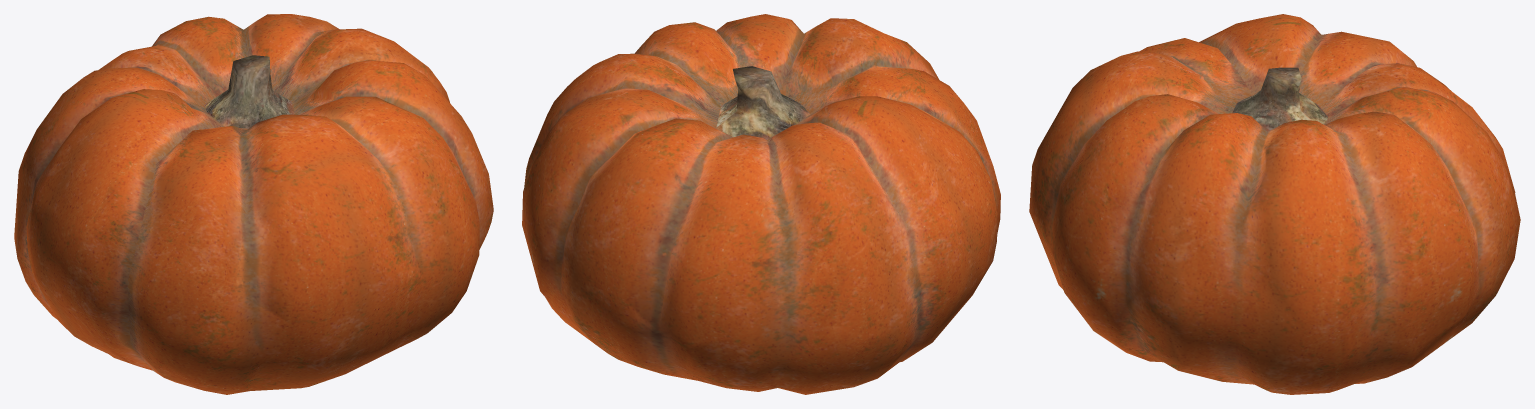
File: SM_pumpkin_01.fbx
The picture shows the model from 3 angles, left to right: view 1: azimuth 30°, elevation 25°; view 2: azimuth 150°, elevation 25°; view 3: azimuth 270°, elevation 25°; orthographic projection.
Visible parts, largest first — view 1: SM_pumpkin_01_LOD0; view 2: SM_pumpkin_01_LOD0; view 3: SM_pumpkin_01_LOD0.
Boxes of the visible parts, bbox=[...] form: SM_pumpkin_01_LOD0: bbox=[14, 14, 493, 394]; SM_pumpkin_01_LOD0: bbox=[522, 14, 1000, 394]; SM_pumpkin_01_LOD0: bbox=[1029, 14, 1520, 394].
Size of the model in its own units: 31.99 by 32.25 by 19.76.
1 material, 1 textured.
